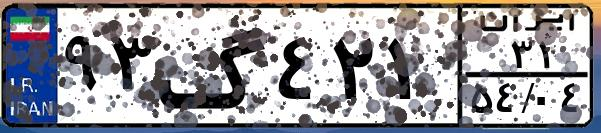0: (535, 70, 560, 125)
1: (385, 28, 445, 110), (537, 27, 568, 80)
2: (330, 28, 385, 110)
3: (110, 28, 156, 98), (508, 27, 537, 80)
4: (270, 28, 330, 110), (560, 70, 590, 125), (495, 70, 520, 125)
5: (470, 70, 495, 125)
9: (57, 26, 110, 100)
گ: (156, 12, 270, 120)
